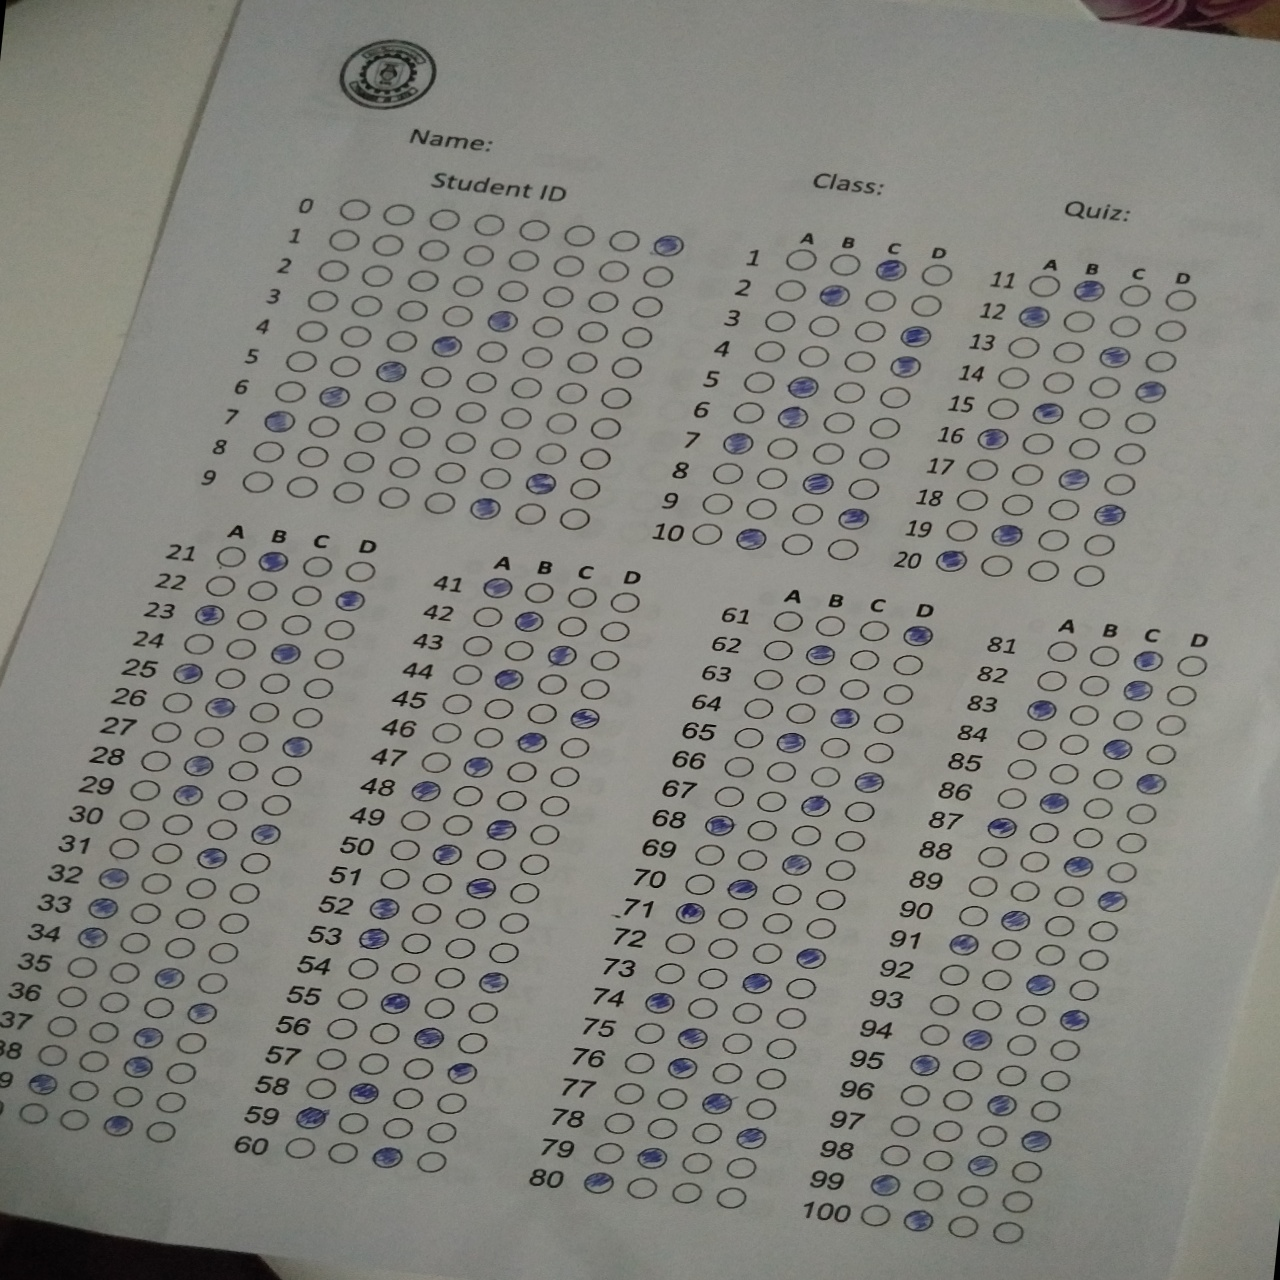not-c: (727, 1000, 770, 1026), (855, 617, 896, 644), (638, 263, 678, 290), (517, 343, 557, 370), (302, 411, 342, 438), (213, 542, 253, 568), (307, 644, 347, 670), (136, 869, 176, 896), (311, 1046, 350, 1073), (692, 840, 731, 867), (758, 910, 798, 937), (1002, 1032, 1042, 1058), (1117, 282, 1157, 309), (794, 345, 833, 372), (377, 202, 418, 227), (486, 434, 527, 459), (554, 505, 595, 531), (297, 552, 338, 578), (159, 1060, 200, 1085), (411, 1149, 452, 1175), (377, 1114, 418, 1139), (493, 908, 535, 934), (731, 847, 772, 873), (1080, 795, 1121, 821), (1107, 441, 1148, 467), (855, 445, 896, 471), (874, 386, 915, 411), (593, 256, 632, 282), (452, 399, 491, 425), (333, 985, 372, 1012), (395, 808, 434, 835), (533, 670, 572, 697), (719, 753, 757, 779), (762, 760, 801, 787), (723, 1155, 762, 1182), (1017, 847, 1056, 874), (688, 522, 727, 549), (549, 251, 588, 277), (503, 247, 543, 273), (413, 237, 452, 263), (325, 226, 365, 252), (538, 284, 578, 309), (571, 318, 611, 343), (291, 318, 331, 343), (542, 409, 581, 435), (496, 403, 536, 429), (407, 393, 447, 418), (360, 389, 400, 415), (532, 440, 572, 465), (238, 468, 278, 493), (328, 479, 368, 505), (420, 489, 459, 515), (338, 559, 377, 585), (243, 700, 282, 726), (211, 666, 251, 692), (277, 610, 316, 635), (338, 558, 377, 584), (190, 723, 230, 749), (114, 805, 154, 831), (147, 720, 186, 745), (232, 729, 272, 755), (224, 879, 264, 905), (182, 874, 222, 900), (213, 910, 253, 935), (114, 931, 154, 956), (52, 983, 91, 1009), (41, 1013, 81, 1039), (74, 1047, 114, 1073), (32, 1041, 72, 1067), (142, 1119, 182, 1145), (388, 1085, 428, 1111), (400, 1055, 440, 1081), (354, 1050, 394, 1076), (362, 1019, 402, 1044), (452, 904, 492, 930), (386, 836, 425, 862), (554, 736, 594, 762), (471, 726, 511, 751), (501, 760, 540, 785), (440, 813, 479, 839), (436, 692, 476, 717), (447, 661, 486, 687), (467, 604, 506, 629), (522, 579, 561, 605), (563, 584, 602, 610), (576, 676, 615, 702), (771, 608, 811, 634), (835, 674, 874, 700), (747, 667, 787, 693), (757, 636, 797, 662), (806, 764, 846, 790), (859, 738, 899, 764), (767, 881, 806, 907), (694, 964, 734, 989), (772, 1003, 812, 1029), (707, 1058, 747, 1084), (687, 1121, 727, 1146), (641, 1115, 681, 1141), (676, 1150, 716, 1176), (666, 1182, 706, 1207), (998, 1190, 1037, 1216), (906, 1177, 946, 1203), (918, 1148, 958, 1173), (1027, 1099, 1067, 1125), (937, 1088, 976, 1114), (1029, 941, 1069, 967), (972, 844, 1012, 870), (993, 785, 1033, 811), (1043, 760, 1083, 785), (1069, 563, 1109, 588), (1080, 530, 1119, 556), (1034, 527, 1074, 553), (1006, 462, 1046, 488), (1074, 406, 1114, 431), (1099, 471, 1139, 497), (961, 456, 1001, 482), (993, 366, 1033, 392), (1039, 372, 1078, 397), (1084, 375, 1124, 401), (1160, 290, 1200, 315), (1057, 309, 1097, 335), (810, 441, 850, 467), (753, 340, 792, 366), (830, 380, 870, 406), (771, 278, 811, 304), (860, 288, 900, 314), (179, 631, 217, 658), (607, 588, 645, 615), (602, 229, 644, 253), (527, 314, 568, 339), (595, 384, 636, 409), (147, 839, 188, 864), (433, 1089, 474, 1114), (595, 619, 636, 644), (629, 1021, 670, 1046), (874, 1143, 915, 1167), (1017, 430, 1058, 455), (697, 491, 738, 516), (738, 370, 779, 395), (779, 247, 821, 272), (558, 222, 597, 247), (458, 241, 497, 267), (369, 233, 408, 259), (617, 324, 655, 349), (564, 348, 602, 374), (471, 338, 510, 363), (335, 322, 374, 348), (552, 379, 591, 404), (587, 414, 626, 440), (275, 379, 314, 404), (566, 475, 605, 501), (512, 499, 551, 525), (341, 448, 380, 474), (282, 474, 321, 499), (376, 483, 415, 509), (258, 791, 297, 817), (62, 955, 101, 981), (195, 971, 233, 996), (95, 990, 134, 1016), (83, 1017, 122, 1043), (171, 1029, 210, 1055), (14, 1101, 53, 1126), (54, 1105, 93, 1131), (280, 1133, 319, 1159), (324, 1139, 362, 1165), (407, 899, 445, 925), (417, 870, 456, 896), (524, 823, 563, 849), (535, 795, 573, 821), (811, 613, 850, 639), (794, 670, 832, 696), (870, 712, 908, 737), (880, 681, 919, 707), (840, 799, 879, 825), (831, 828, 870, 853), (610, 1080, 648, 1105), (886, 1114, 925, 1139), (949, 1058, 988, 1084), (915, 1022, 954, 1048), (1044, 1039, 1083, 1064), (987, 937, 1026, 962), (1075, 947, 1114, 973), (1102, 858, 1141, 884), (1122, 799, 1160, 825), (1013, 726, 1051, 751), (1064, 701, 1103, 727), (1107, 707, 1145, 733), (953, 486, 992, 512), (1049, 339, 1088, 365), (789, 501, 828, 526), (709, 461, 748, 486), (729, 400, 768, 425), (840, 349, 879, 375), (906, 293, 945, 319), (469, 211, 509, 236), (513, 218, 553, 243), (583, 290, 622, 314), (400, 268, 440, 293), (302, 287, 342, 312), (381, 328, 421, 353), (280, 348, 320, 373), (461, 370, 501, 395), (506, 375, 546, 400), (350, 418, 390, 443), (440, 429, 479, 454), (475, 464, 515, 489), (556, 506, 595, 531), (431, 459, 471, 484), (384, 454, 424, 478), (248, 440, 288, 464), (243, 578, 282, 602), (199, 574, 239, 599), (298, 673, 338, 697), (252, 669, 292, 694), (222, 636, 261, 661), (124, 776, 164, 801), (158, 689, 198, 714), (127, 899, 166, 924), (105, 960, 145, 985), (138, 995, 178, 1020), (107, 1084, 147, 1109), (423, 1121, 463, 1145), (333, 1110, 373, 1135), (301, 1075, 341, 1099), (321, 1014, 361, 1039), (452, 1029, 492, 1054), (463, 1001, 503, 1026), (420, 995, 459, 1020), (342, 955, 382, 980), (384, 959, 424, 983), (486, 939, 526, 964), (504, 879, 544, 904), (375, 866, 415, 891), (544, 765, 584, 790), (427, 721, 467, 745), (416, 750, 456, 775), (479, 696, 519, 721), (523, 701, 563, 726), (585, 648, 625, 673), (847, 647, 887, 672), (741, 697, 781, 722), (787, 823, 826, 847), (680, 873, 720, 898), (651, 961, 690, 986), (717, 1032, 757, 1056), (760, 1034, 799, 1058), (652, 1085, 692, 1110), (598, 1111, 638, 1136), (588, 1141, 628, 1165), (712, 1185, 751, 1210), (621, 1177, 661, 1201), (930, 1118, 969, 1143), (972, 1124, 1012, 1149), (896, 1082, 935, 1107), (992, 1062, 1032, 1087), (1036, 1069, 1076, 1094), (1012, 1002, 1051, 1027), (1065, 976, 1105, 1001), (978, 966, 1017, 990), (935, 961, 975, 986), (1040, 913, 1080, 938), (964, 873, 1003, 898), (1005, 878, 1044, 903), (1022, 821, 1062, 845), (1065, 826, 1105, 851), (1111, 830, 1151, 855), (1002, 756, 1042, 781), (975, 553, 1015, 578), (940, 518, 980, 543), (999, 491, 1039, 516), (1046, 497, 1085, 522), (1141, 349, 1180, 374), (1026, 273, 1065, 298), (1105, 315, 1145, 340), (1005, 335, 1044, 360), (779, 533, 819, 558), (750, 467, 790, 491), (819, 410, 859, 435), (804, 315, 844, 340), (64, 1080, 104, 1104), (335, 196, 373, 222), (431, 964, 469, 989), (501, 638, 538, 663), (824, 857, 862, 883), (661, 931, 699, 956), (953, 1183, 990, 1208), (968, 998, 1006, 1023), (1055, 731, 1092, 757), (1151, 712, 1189, 737), (1024, 557, 1062, 583), (763, 436, 801, 462), (495, 278, 533, 302), (449, 274, 488, 299), (356, 264, 395, 288), (314, 258, 353, 282), (346, 294, 384, 319), (394, 297, 433, 321), (437, 304, 476, 328), (607, 355, 646, 380), (327, 353, 366, 377), (396, 424, 435, 449), (576, 445, 614, 470), (321, 615, 360, 640), (288, 584, 327, 608), (234, 850, 273, 874), (104, 835, 143, 859), (213, 787, 252, 811), (203, 817, 241, 842), (157, 810, 196, 835), (224, 756, 263, 781), (290, 704, 328, 729), (170, 906, 209, 931), (442, 935, 481, 960), (397, 930, 436, 954), (515, 851, 553, 876), (492, 789, 531, 813), (448, 784, 486, 809), (457, 633, 496, 658), (554, 614, 593, 639), (709, 784, 748, 809), (817, 735, 856, 760), (782, 701, 821, 726), (744, 817, 783, 842), (714, 905, 753, 930), (804, 915, 843, 940), (703, 935, 742, 960), (685, 996, 723, 1021), (619, 1050, 658, 1075), (743, 1097, 782, 1122), (990, 1220, 1029, 1245), (1008, 1158, 1047, 1183), (925, 992, 964, 1016), (1083, 918, 1122, 942), (955, 903, 994, 927), (1141, 741, 1179, 765), (1034, 667, 1073, 692), (824, 538, 863, 563), (983, 397, 1022, 422), (1121, 410, 1159, 435), (1064, 436, 1103, 461), (1155, 319, 1193, 343), (743, 496, 782, 520), (846, 477, 885, 502), (761, 309, 799, 334), (850, 319, 888, 343), (918, 263, 956, 287), (826, 253, 865, 278), (1172, 652, 1208, 678), (424, 207, 464, 231), (626, 297, 666, 320), (161, 937, 200, 960), (150, 1090, 190, 1114), (472, 847, 512, 871), (812, 887, 852, 911), (781, 976, 821, 1000), (944, 1216, 983, 1239), (1085, 765, 1125, 789), (416, 365, 454, 389), (295, 442, 333, 467), (233, 607, 271, 632), (267, 763, 305, 788), (136, 749, 173, 774), (888, 653, 926, 678), (858, 1203, 896, 1227), (1049, 883, 1087, 907), (1171, 652, 1208, 676), (204, 940, 243, 964), (729, 726, 768, 749), (750, 790, 789, 813), (748, 940, 787, 964), (751, 1065, 790, 1089), (1044, 638, 1080, 663), (865, 417, 904, 441), (1074, 674, 1111, 697), (1085, 644, 1121, 668), (1163, 683, 1199, 707)
taken-c: (254, 549, 293, 574), (277, 734, 315, 760), (365, 896, 403, 921), (1022, 697, 1061, 723), (813, 282, 852, 308), (425, 334, 465, 359), (343, 1082, 383, 1107), (427, 843, 467, 867), (958, 1028, 998, 1053), (1058, 855, 1098, 879), (100, 1114, 137, 1139), (475, 971, 512, 996), (478, 576, 516, 601), (983, 1092, 1021, 1118), (1055, 467, 1092, 492), (1131, 380, 1169, 406), (465, 496, 504, 520), (189, 604, 227, 628), (266, 641, 305, 666), (247, 822, 286, 846), (83, 896, 122, 920), (120, 1055, 158, 1080), (23, 1073, 62, 1097), (377, 992, 416, 1016), (482, 818, 520, 843), (513, 730, 552, 755), (510, 610, 549, 634), (823, 706, 862, 730), (1119, 678, 1158, 702), (847, 770, 886, 795), (797, 795, 836, 819), (700, 813, 738, 838), (777, 851, 816, 876), (697, 1090, 736, 1115), (731, 1126, 770, 1151), (898, 1208, 937, 1233), (1094, 890, 1132, 914), (983, 816, 1022, 840), (1095, 345, 1133, 369), (1015, 305, 1054, 329), (886, 354, 925, 379), (835, 508, 873, 532), (730, 526, 769, 551), (168, 662, 207, 686), (73, 926, 113, 949), (799, 644, 839, 667), (372, 360, 409, 384), (315, 384, 353, 409), (331, 588, 368, 613), (181, 754, 218, 778), (170, 782, 207, 806), (95, 867, 132, 892), (150, 966, 188, 990), (129, 1026, 166, 1050), (369, 1144, 407, 1169), (444, 1061, 482, 1085), (463, 876, 501, 900), (459, 755, 497, 779), (490, 667, 527, 692), (542, 644, 579, 668), (899, 624, 937, 648), (723, 877, 761, 901), (642, 990, 680, 1015), (674, 1027, 712, 1051), (866, 1173, 904, 1198), (964, 1155, 1001, 1179), (1019, 1130, 1056, 1155), (906, 1054, 944, 1078), (946, 933, 983, 958), (998, 908, 1035, 933), (933, 550, 971, 574), (987, 524, 1024, 549), (1090, 503, 1128, 527), (974, 427, 1012, 451), (872, 258, 910, 282), (897, 325, 934, 349), (719, 431, 756, 456), (523, 471, 561, 495), (200, 696, 239, 720), (291, 1107, 329, 1130), (407, 779, 445, 803), (770, 730, 809, 754), (670, 901, 709, 925), (791, 947, 830, 971), (1054, 1008, 1092, 1032), (1098, 737, 1137, 761), (1071, 279, 1110, 302), (782, 375, 821, 399), (409, 1026, 445, 1050), (566, 707, 602, 731), (1022, 973, 1058, 998), (1037, 790, 1074, 815), (649, 233, 687, 257), (259, 410, 297, 434), (192, 847, 230, 871), (184, 1002, 222, 1026), (1129, 651, 1166, 674), (740, 971, 777, 994), (663, 1057, 701, 1081), (633, 1146, 670, 1170), (580, 1171, 618, 1194), (1029, 402, 1067, 425), (774, 406, 811, 429), (798, 472, 836, 496), (484, 309, 520, 333), (355, 927, 392, 951), (1133, 772, 1170, 796)
